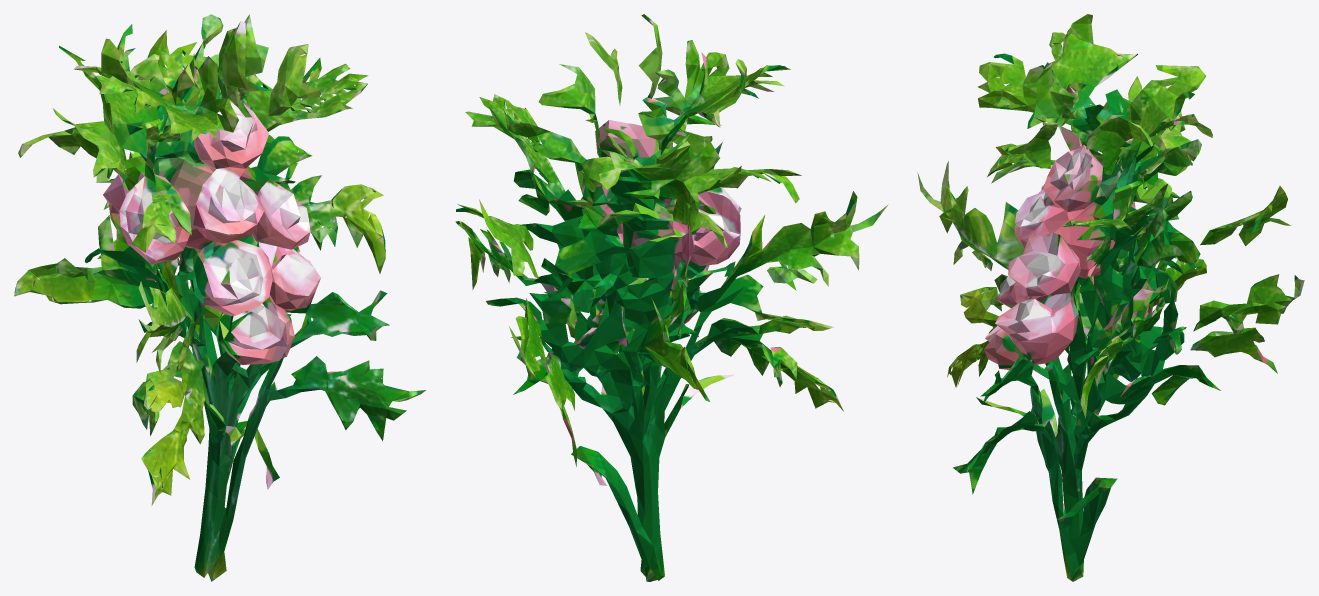
The model's file is flowers.glb.
3 views of the same model, side by side, from view 1: azimuth 30°, elevation 25°; view 2: azimuth 150°, elevation 25°; view 3: azimuth 270°, elevation 25° (orthographic). The views are drawn at different scales.
Parts seen in each view (by area): view 1: tmpxnu73u27.ply; view 2: tmpxnu73u27.ply; view 3: tmpxnu73u27.ply.
Part boxes in pixels (x1=…): tmpxnu73u27.ply: x1=14, y1=14, x2=425, y2=581; tmpxnu73u27.ply: x1=455, y1=14, x2=888, y2=581; tmpxnu73u27.ply: x1=917, y1=14, x2=1304, y2=581.
Size of the model in its own units: 1.27 by 1.99 by 1.32.
Materials: 1 (1 with a texture image).
